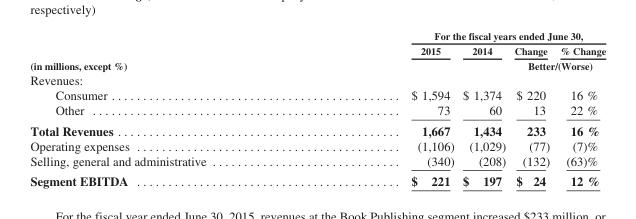table: (29, 29, 605, 187)
table column: (29, 29, 308, 187), (308, 29, 457, 187), (457, 29, 509, 187), (554, 29, 605, 187), (509, 29, 554, 187)
table column header: (29, 29, 605, 57)
table projected row header: (29, 71, 605, 87)
table row: (29, 119, 605, 137), (29, 102, 605, 119), (29, 153, 605, 170), (29, 170, 605, 187), (29, 71, 605, 87), (29, 137, 605, 153), (29, 42, 605, 57), (29, 87, 605, 102), (29, 57, 605, 71), (29, 29, 605, 42)
table spanning cell: (308, 29, 605, 42), (509, 57, 605, 71)
